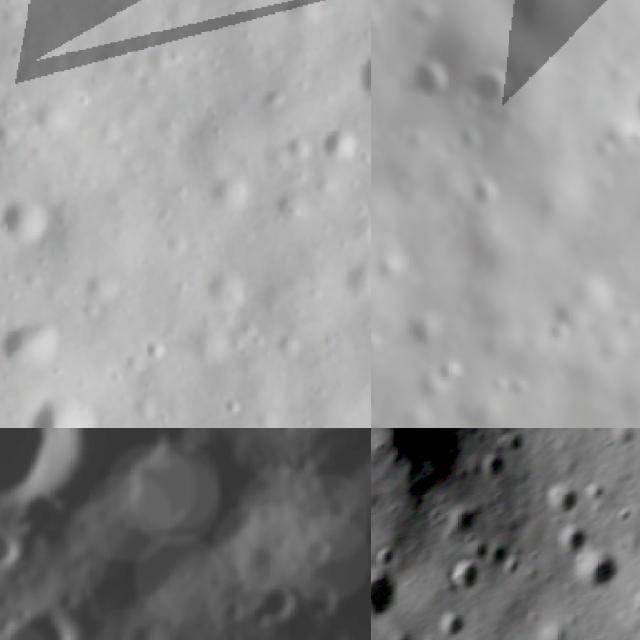crater: (0, 428, 119, 546), (371, 428, 494, 500), (0, 303, 80, 385), (9, 375, 116, 428), (228, 570, 307, 640), (0, 178, 70, 256), (0, 584, 96, 640), (279, 519, 342, 581), (569, 543, 626, 606), (261, 608, 371, 640), (316, 109, 371, 172), (288, 570, 344, 627), (333, 238, 371, 318), (410, 50, 467, 101), (339, 36, 371, 117), (468, 71, 529, 113), (0, 524, 34, 595), (536, 310, 581, 356), (459, 172, 507, 215), (371, 239, 412, 288), (408, 305, 450, 351), (371, 563, 402, 625), (445, 551, 485, 595), (431, 355, 472, 396), (430, 604, 476, 640), (543, 477, 581, 518), (554, 518, 589, 560), (292, 428, 363, 447)
